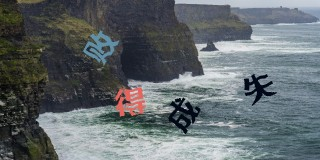失: (242, 73, 278, 105)
得: (115, 84, 148, 116)
成: (167, 97, 200, 134)
败: (82, 30, 120, 65)
